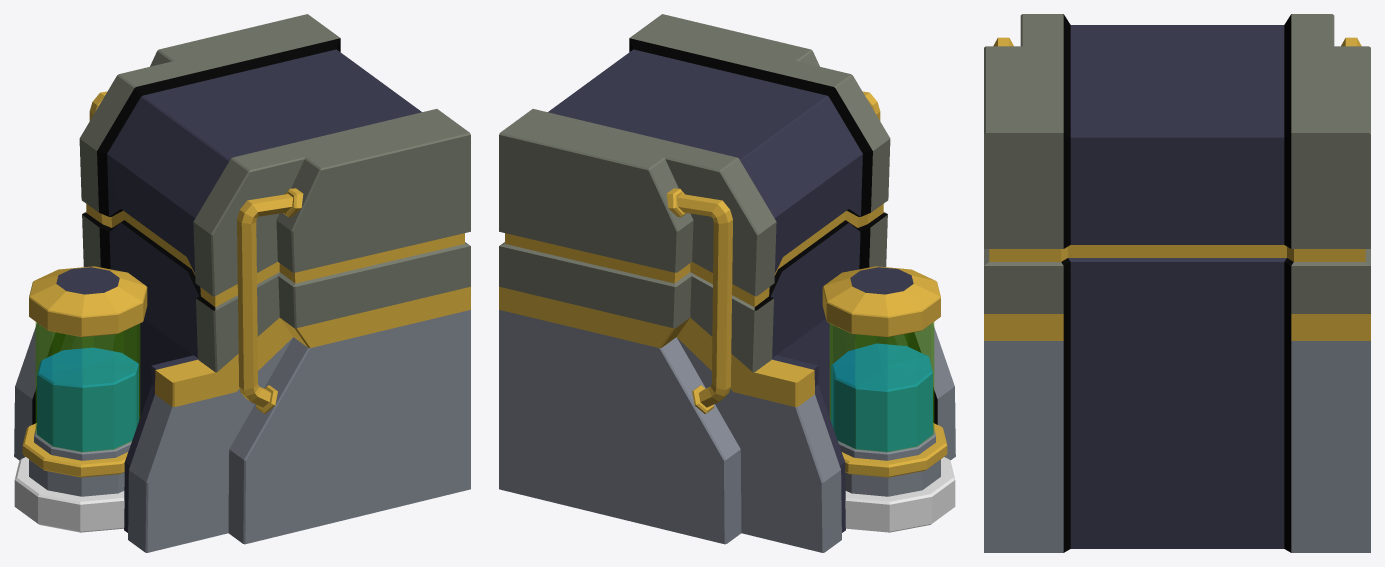
File: Wall_inmiddle2_L.fbx
3 views of the same model, side by side, from view 1: azimuth 30°, elevation 25°; view 2: azimuth 150°, elevation 25°; view 3: azimuth 270°, elevation 25° (orthographic). The views are drawn at different scales.
Parts seen in each view (by area): view 1: Wall_inmiddle2_L; view 2: Wall_inmiddle2_L; view 3: Wall_inmiddle2_L.
Boxes of the visible parts, box(x1,y1,x2,y2) form: Wall_inmiddle2_L: box(14, 14, 470, 552); Wall_inmiddle2_L: box(499, 14, 955, 552); Wall_inmiddle2_L: box(984, 14, 1370, 552).
Size of the model in its own units: 76.71 by 72.16 by 60.06.
